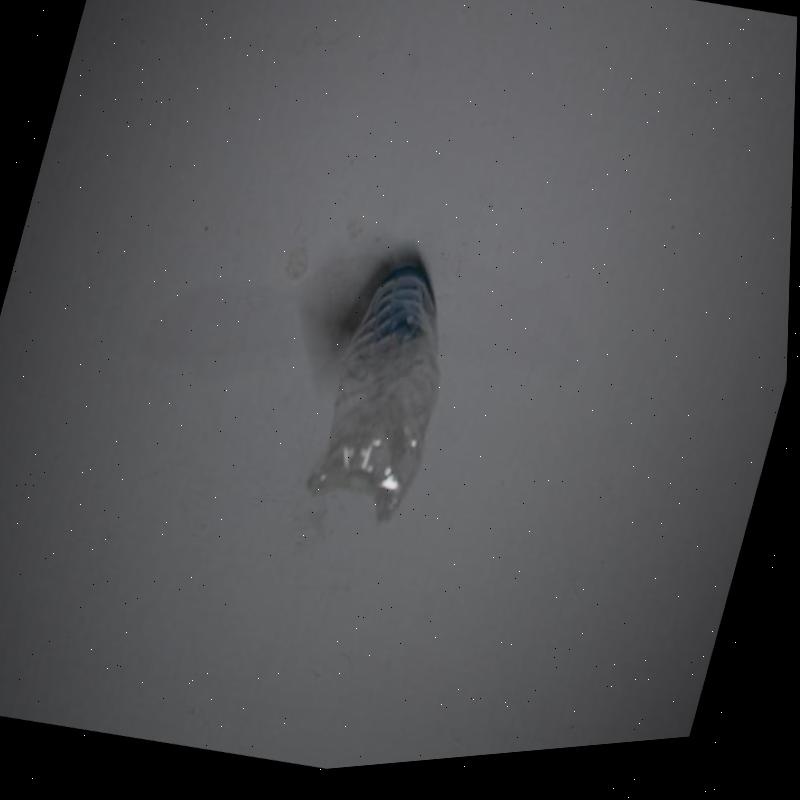botella: (297, 250, 476, 549)
